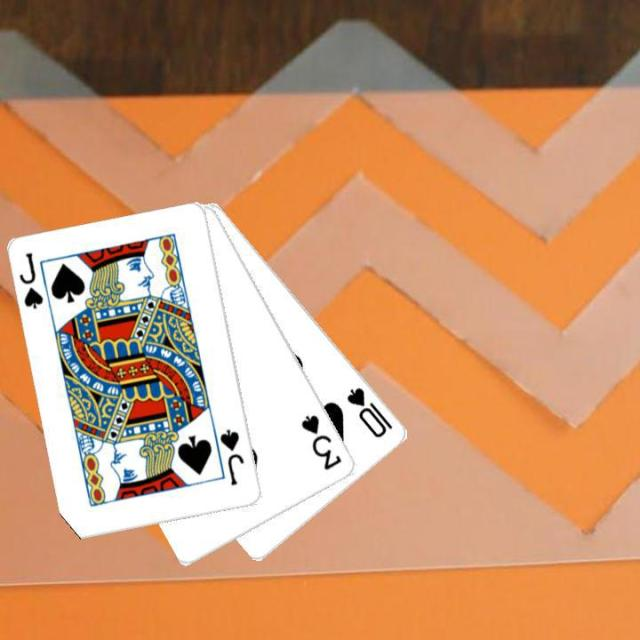10S: (343, 383, 396, 440)
3S: (297, 411, 344, 472)
JS: (216, 425, 247, 487), (16, 249, 45, 311)
